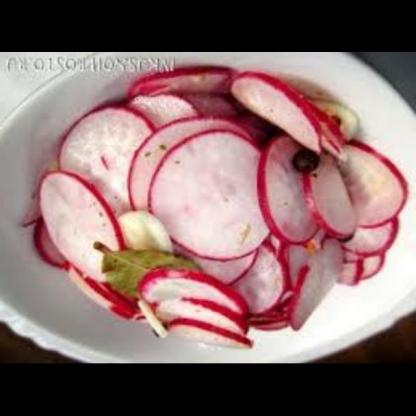rediska: (26, 62, 406, 358)
